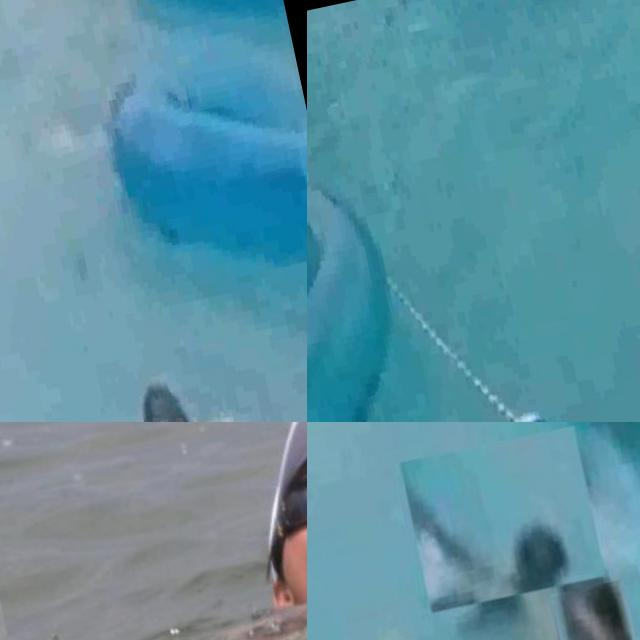drowning: (0, 422, 307, 640), (397, 424, 607, 614)
swimming: (91, 365, 261, 422), (546, 578, 640, 640)
